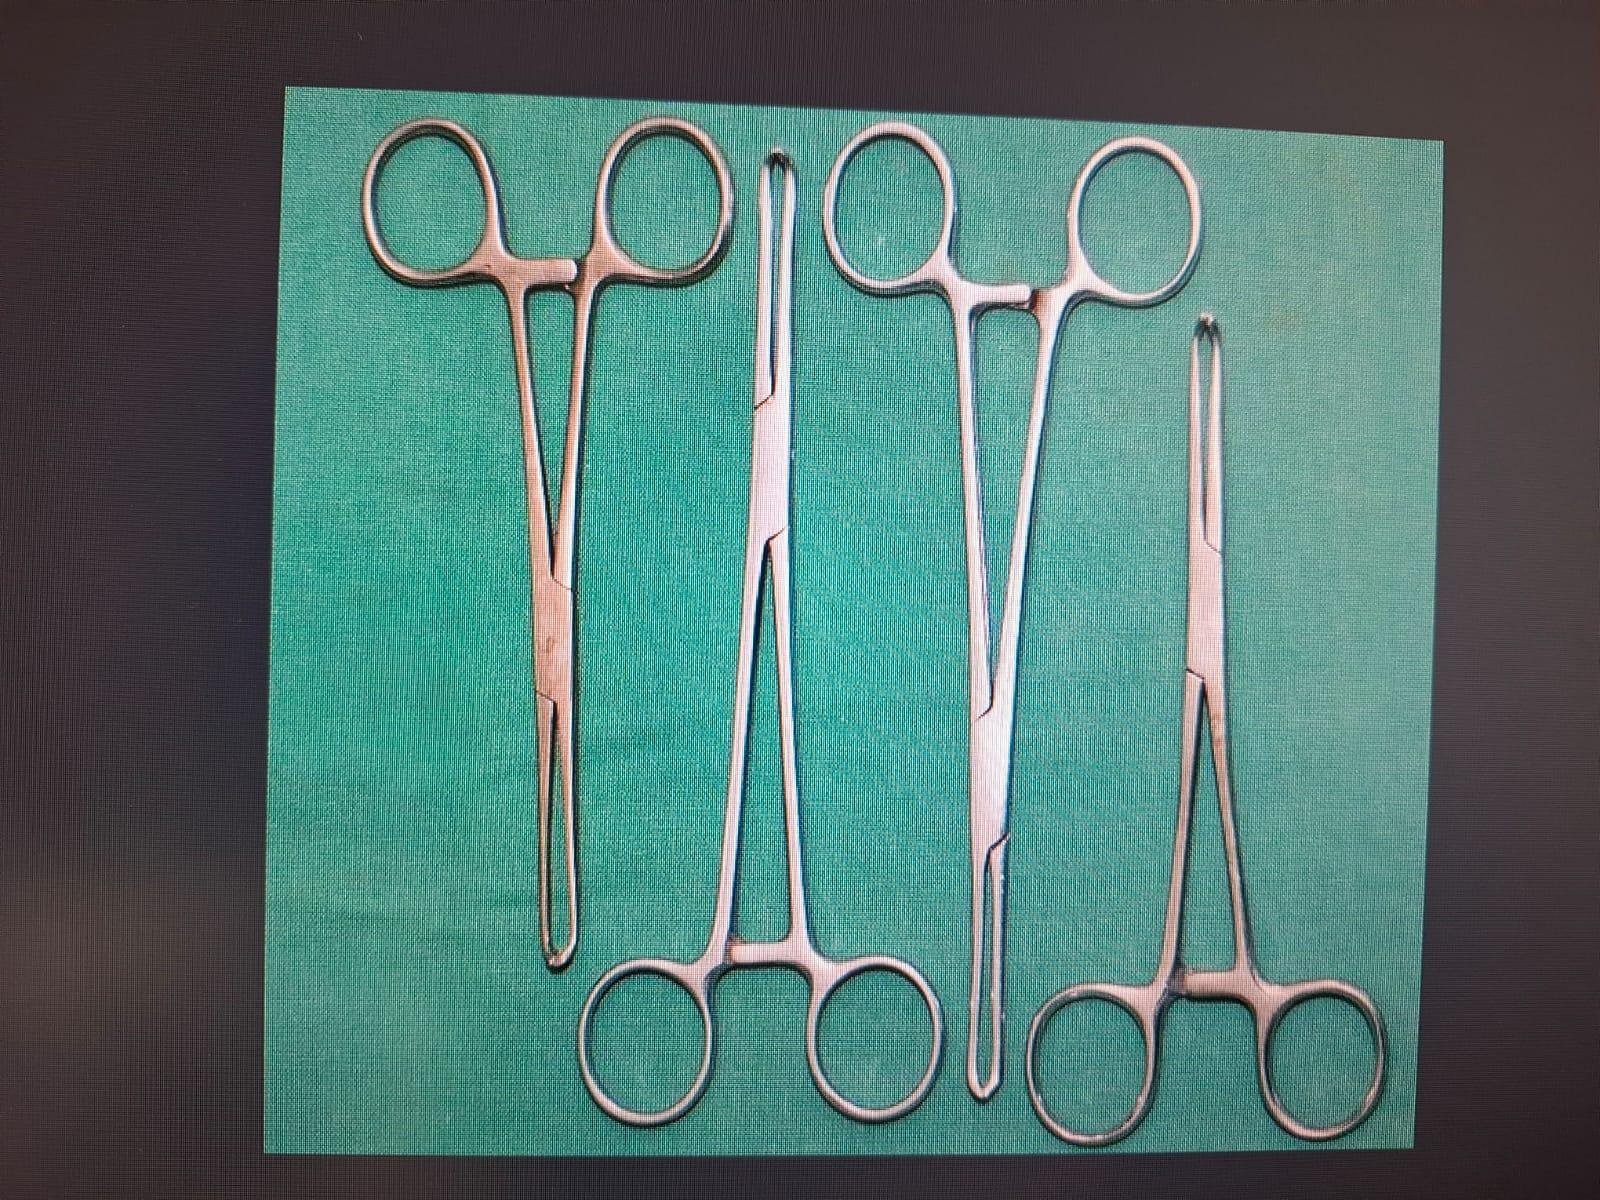Allis Forceps: (558, 138, 984, 1138), (810, 96, 1214, 1112), (1008, 292, 1428, 1156), (338, 102, 740, 982)
